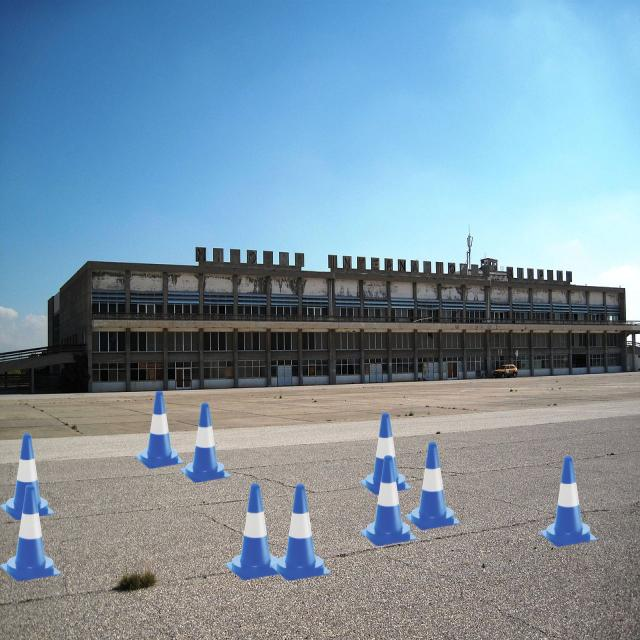blue_cone: (225, 483, 286, 580), (270, 484, 331, 581), (0, 485, 61, 581), (540, 456, 597, 547), (360, 455, 417, 546), (405, 442, 461, 530), (0, 433, 54, 519), (360, 412, 412, 494), (180, 402, 230, 482), (135, 391, 184, 468)
